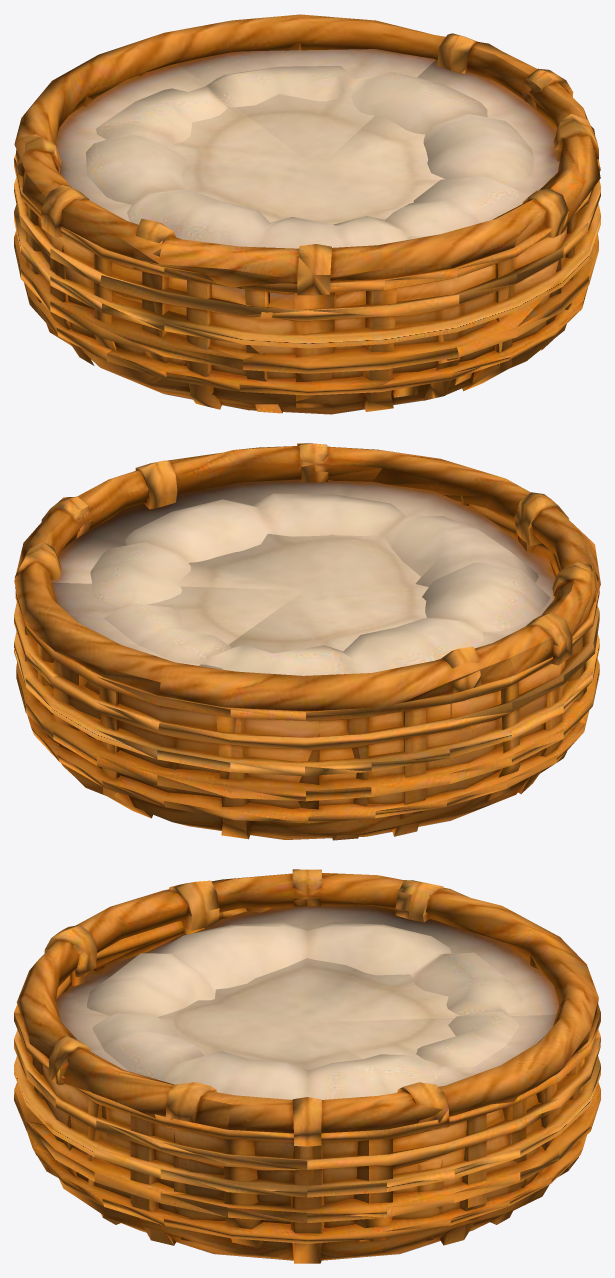
Rendered from cat_cushion_basket.glb.
3 views of the same model, one above another, from view 1: azimuth 30°, elevation 25°; view 2: azimuth 150°, elevation 25°; view 3: azimuth 270°, elevation 25° (orthographic). The views are drawn at different scales.
Parts seen in each view (by area): view 1: cat_cushion_basket; view 2: cat_cushion_basket; view 3: cat_cushion_basket.
Part boxes in pixels (x1,y1,x2,y2): cat_cushion_basket: (14,14,600,414); cat_cushion_basket: (14,443,600,840); cat_cushion_basket: (14,869,600,1263).
Bounding box in the file's own units: 0.8823 × 0.3 × 0.8823.
1 material, 1 textured.
